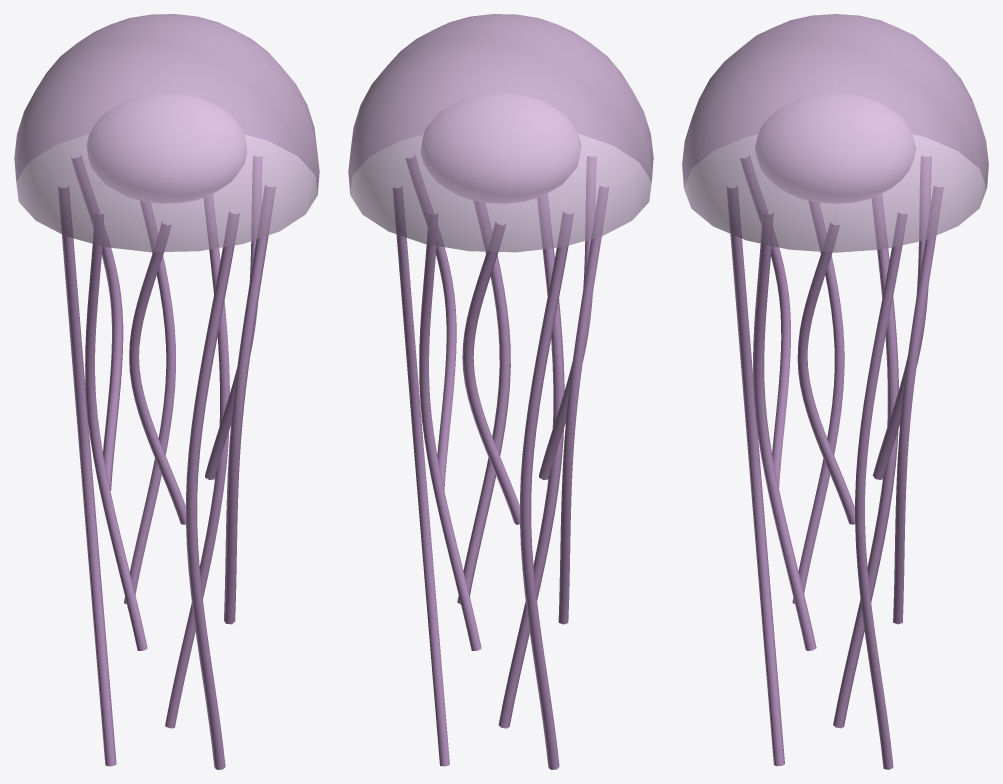
The model's file is jellyfish.glb.
The picture shows the model from 3 angles, left to right: view 1: azimuth 30°, elevation 25°; view 2: azimuth 150°, elevation 25°; view 3: azimuth 270°, elevation 25°; orthographic projection.
Visible parts, largest first — view 1: JellyBell, JellyTentacleAssembly, JellyCore; view 2: JellyBell, JellyTentacleAssembly, JellyCore; view 3: JellyBell, JellyTentacleAssembly, JellyCore.
Part boxes in pixels (bbox=[...]): JellyBell: bbox=[14, 14, 319, 252]; JellyTentacleAssembly: bbox=[58, 155, 275, 769]; JellyCore: bbox=[87, 93, 246, 203]; JellyBell: bbox=[348, 14, 653, 252]; JellyTentacleAssembly: bbox=[393, 156, 608, 769]; JellyCore: bbox=[421, 93, 580, 203]; JellyBell: bbox=[682, 14, 988, 252]; JellyTentacleAssembly: bbox=[727, 155, 943, 769]; JellyCore: bbox=[755, 94, 915, 203].
Bounding box in the file's own units: 0.7599 × 1.98 × 0.7599.
